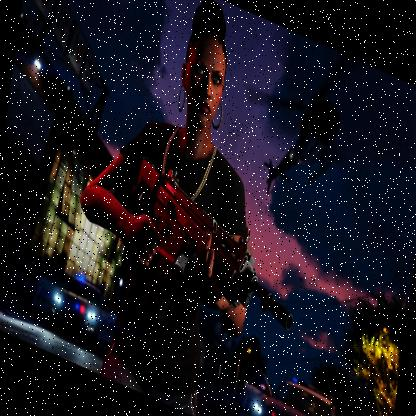rifle: (117, 149, 310, 377)
